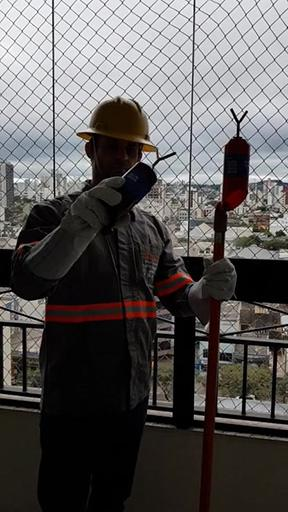Detector_Tensao_Contato: (97, 148, 178, 224), (221, 107, 250, 211)
Vara_Manobra: (199, 211, 228, 512)
